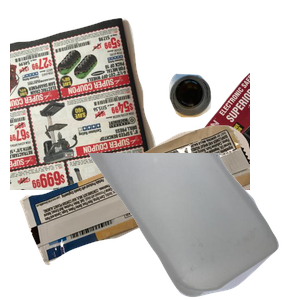glass: (166, 71, 300, 181)
paper: (10, 15, 250, 195)
plastic: (84, 153, 300, 300)
trash: (17, 123, 257, 300)
